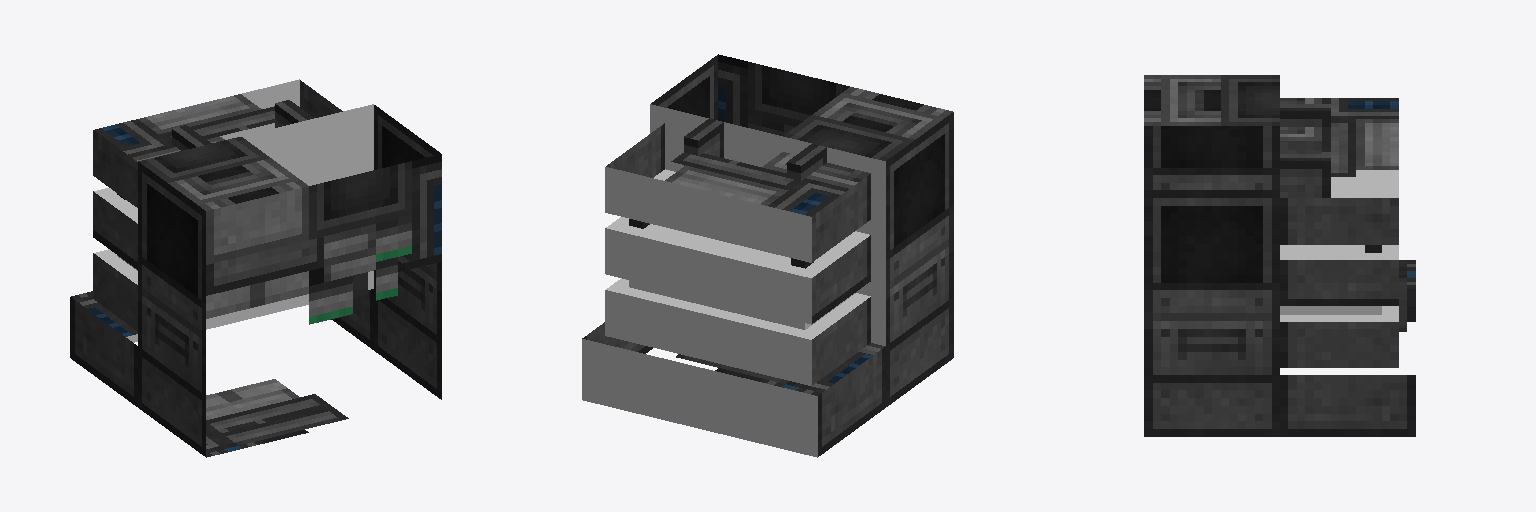
3 renders of one model, left to right at view 1: azimuth 30°, elevation 25°; view 2: azimuth 150°, elevation 25°; view 3: azimuth 270°, elevation 25°, orthographic.
Parts seen in each view (by area): view 1: back, base, plate_top, plate_middle, plate_bottom, connector1, connector2; view 2: back, base, plate_top, plate_middle, plate_bottom, divider, connector1, connector2; view 3: back, base, plate_top, plate_middle, plate_bottom, connector1, connector2, divider.
Part boxes in pixels (x1,y1,x2,y2): back: (138, 104, 441, 395); base: (70, 289, 441, 457); plate_top: (93, 79, 342, 207); plate_middle: (93, 188, 137, 269); plate_bottom: (93, 249, 137, 330); connector1: (275, 100, 313, 127); connector2: (172, 125, 211, 150); back: (650, 54, 953, 345); base: (582, 297, 953, 457); plate_top: (605, 123, 870, 262); plate_middle: (605, 217, 870, 324); plate_bottom: (605, 278, 870, 385); divider: (629, 280, 855, 329); connector1: (684, 118, 723, 165); connector2: (787, 144, 826, 180); back: (1144, 75, 1279, 374); base: (1144, 260, 1415, 436); plate_top: (1280, 98, 1398, 244); plate_middle: (1280, 245, 1398, 305); plate_bottom: (1280, 306, 1398, 367); connector1: (1280, 154, 1330, 197); connector2: (1280, 104, 1330, 153); divider: (1280, 306, 1381, 314).
Size of the model in its own units: 1 by 1 by 1.
Materials: 2 (1 with a texture image).